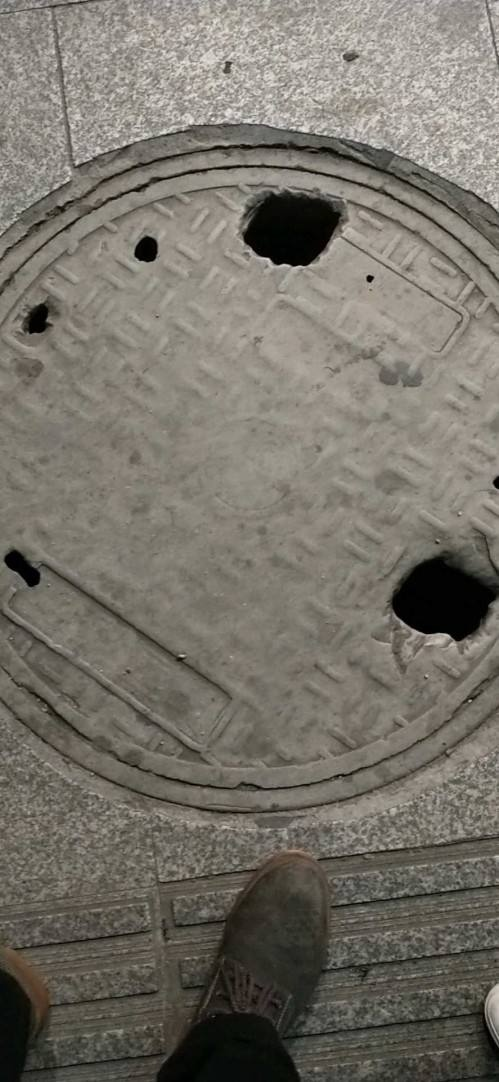broke: (1, 122, 498, 811)
